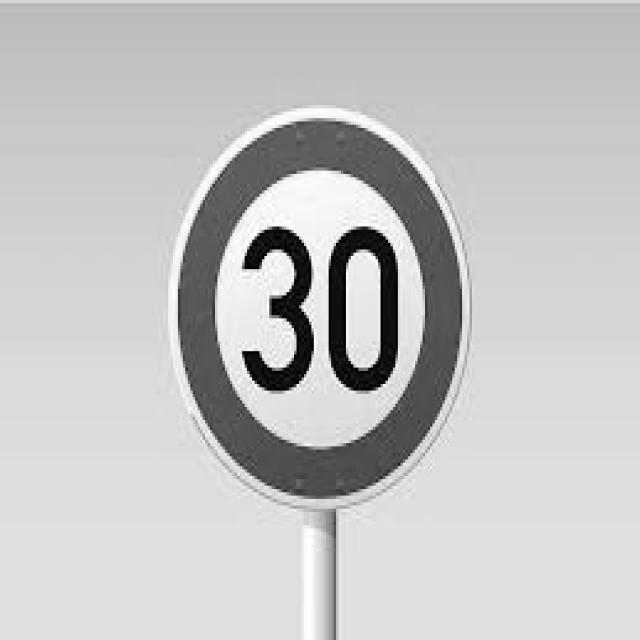speed_30: (169, 108, 477, 511)
